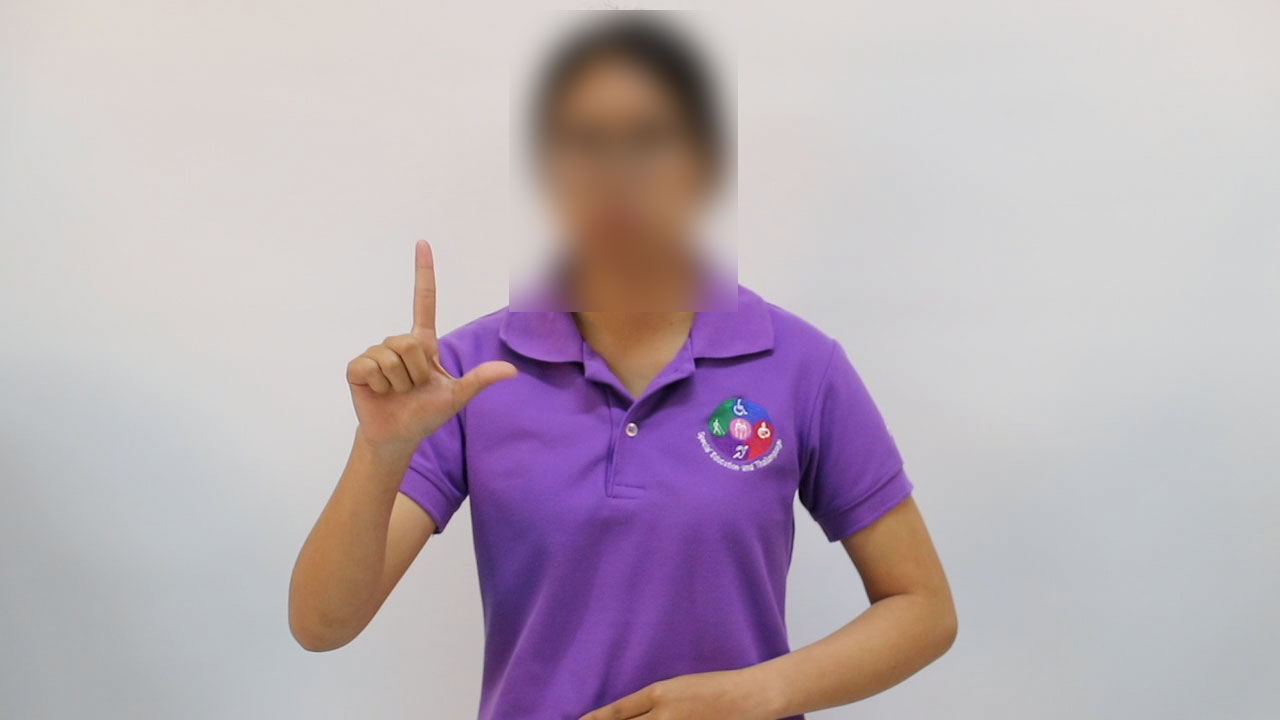lor: (333, 232, 532, 458)
